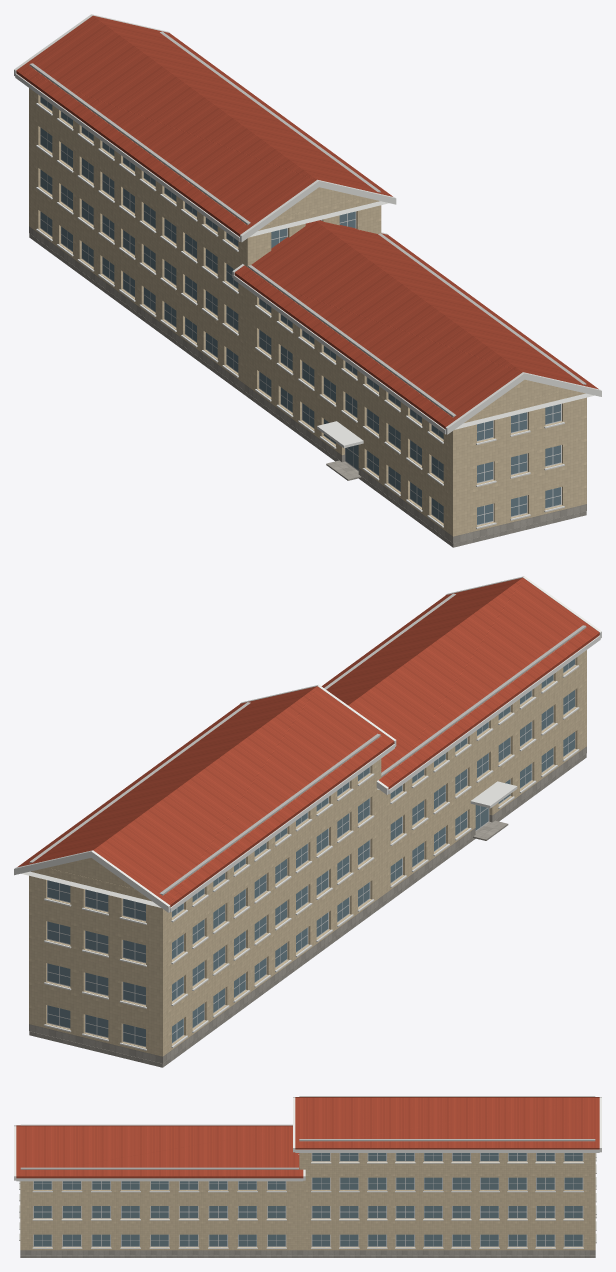
3 renders of one model, top to bottom at view 1: azimuth 30°, elevation 25°; view 2: azimuth 150°, elevation 25°; view 3: azimuth 270°, elevation 25°, orthographic. The views are drawn at different scales.
Visible parts, largest first — view 1: grade1__roof, grade1__tile, grade1__glass, grade1__trim, grade1__stone, grade1__frame, grade1__slab, grade1__soffit; view 2: grade1__roof, grade1__tile, grade1__glass, grade1__trim, grade1__stone, grade1__frame, grade1__slab, grade1__soffit; view 3: grade1__tile, grade1__roof, grade1__glass, grade1__trim, grade1__frame, grade1__stone, grade1__slab.
Boxes of the visible parts, left/top/right/bottom form: grade1__roof: left=16, top=15, right=598, bottom=429; grade1__tile: left=29, top=68, right=586, bottom=536; grade1__glass: left=40, top=97, right=560, bottom=524; grade1__trim: left=14, top=14, right=601, bottom=528; grade1__stone: left=29, top=226, right=586, bottom=547; grade1__frame: left=40, top=96, right=561, bottom=525; grade1__slab: left=29, top=31, right=586, bottom=417; grade1__soffit: left=249, top=201, right=594, bottom=429; grade1__roof: left=17, top=577, right=599, bottom=907; grade1__tile: left=29, top=628, right=586, bottom=1056; grade1__glass: left=47, top=659, right=574, bottom=1046; grade1__trim: left=14, top=576, right=601, bottom=1050; grade1__stone: left=29, top=746, right=586, bottom=1067; grade1__frame: left=47, top=658, right=575, bottom=1047; grade1__slab: left=29, top=593, right=586, bottom=895; grade1__soffit: left=21, top=788, right=379, bottom=907; grade1__tile: left=20, top=1153, right=595, bottom=1250; grade1__roof: left=16, top=1097, right=599, bottom=1178; grade1__glass: left=34, top=1153, right=582, bottom=1246; grade1__trim: left=14, top=1097, right=601, bottom=1248; grade1__frame: left=33, top=1153, right=583, bottom=1246; grade1__stone: left=20, top=1250, right=595, bottom=1257; grade1__slab: left=20, top=1096, right=595, bottom=1169.
Size of the model in its own units: 14.79 by 17.48 by 67.46.
8 materials, 3 textured.
